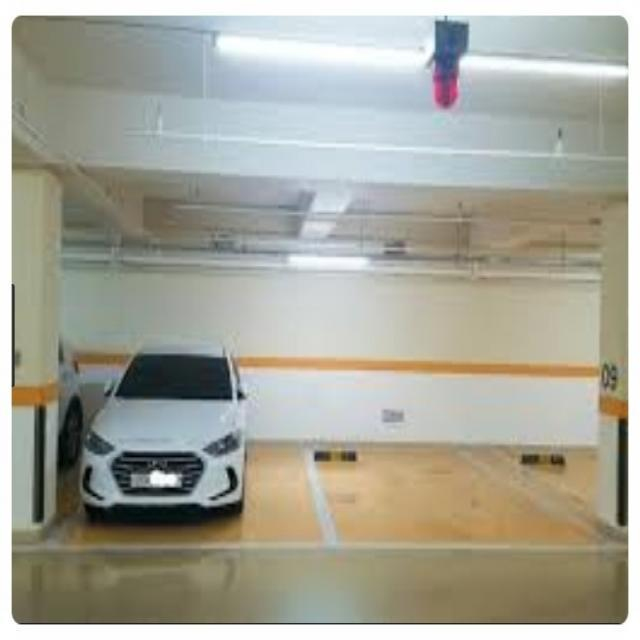Car: (58, 352, 306, 532)
Vacant: (330, 352, 600, 552)
